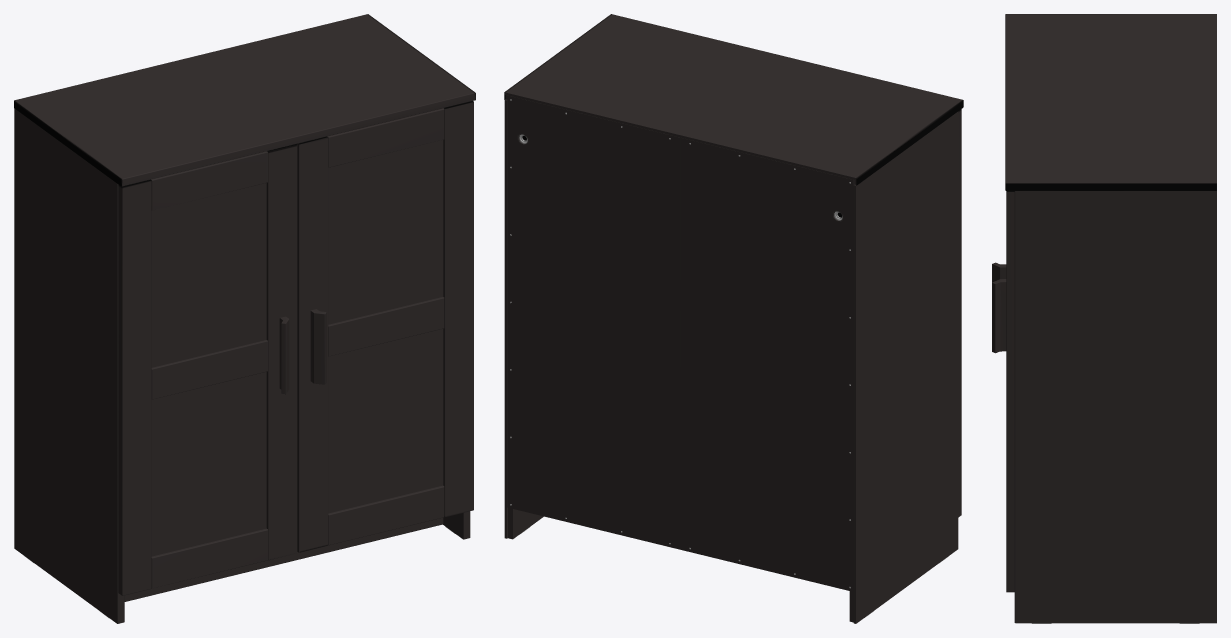
The model's file is storage-6.glb.
The picture shows the model from 3 angles, left to right: view 1: azimuth 30°, elevation 25°; view 2: azimuth 150°, elevation 25°; view 3: azimuth 270°, elevation 25°; orthographic projection.
Visible parts, largest first — view 1: Mesh_0; view 2: Mesh_0; view 3: Mesh_0.
Boxes of the visible parts, x1=… form: Mesh_0: x1=14, y1=14, x2=475, y2=623; Mesh_0: x1=504, y1=14, x2=963, y2=623; Mesh_0: x1=992, y1=14, x2=1216, y2=623.
Size of the model in its own units: 0.7821 by 0.949 by 0.4381.
1 material, 1 textured.
